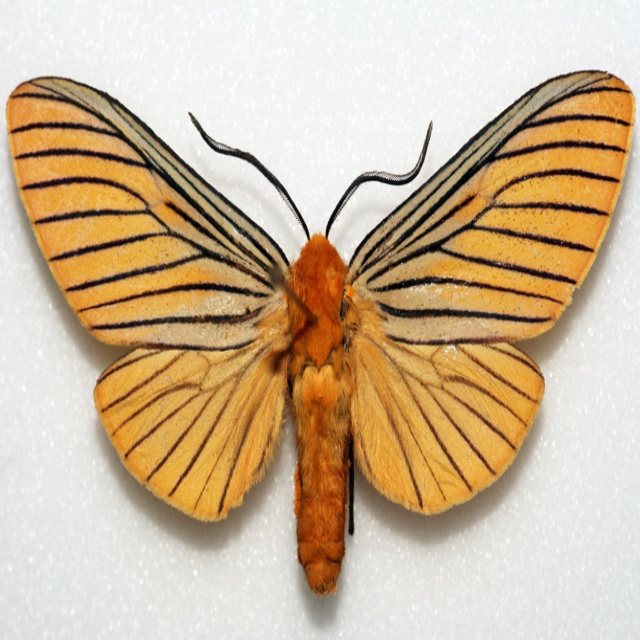Butterfly: (4, 76, 637, 593)
